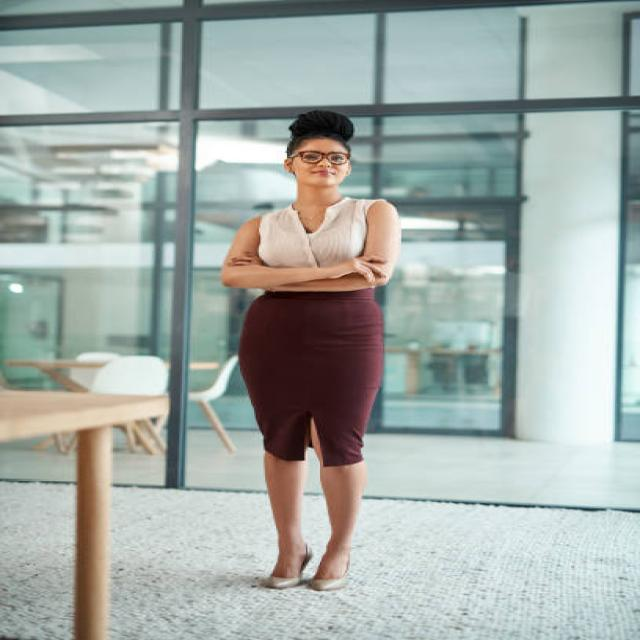Real human 2: (191, 87, 443, 623)
